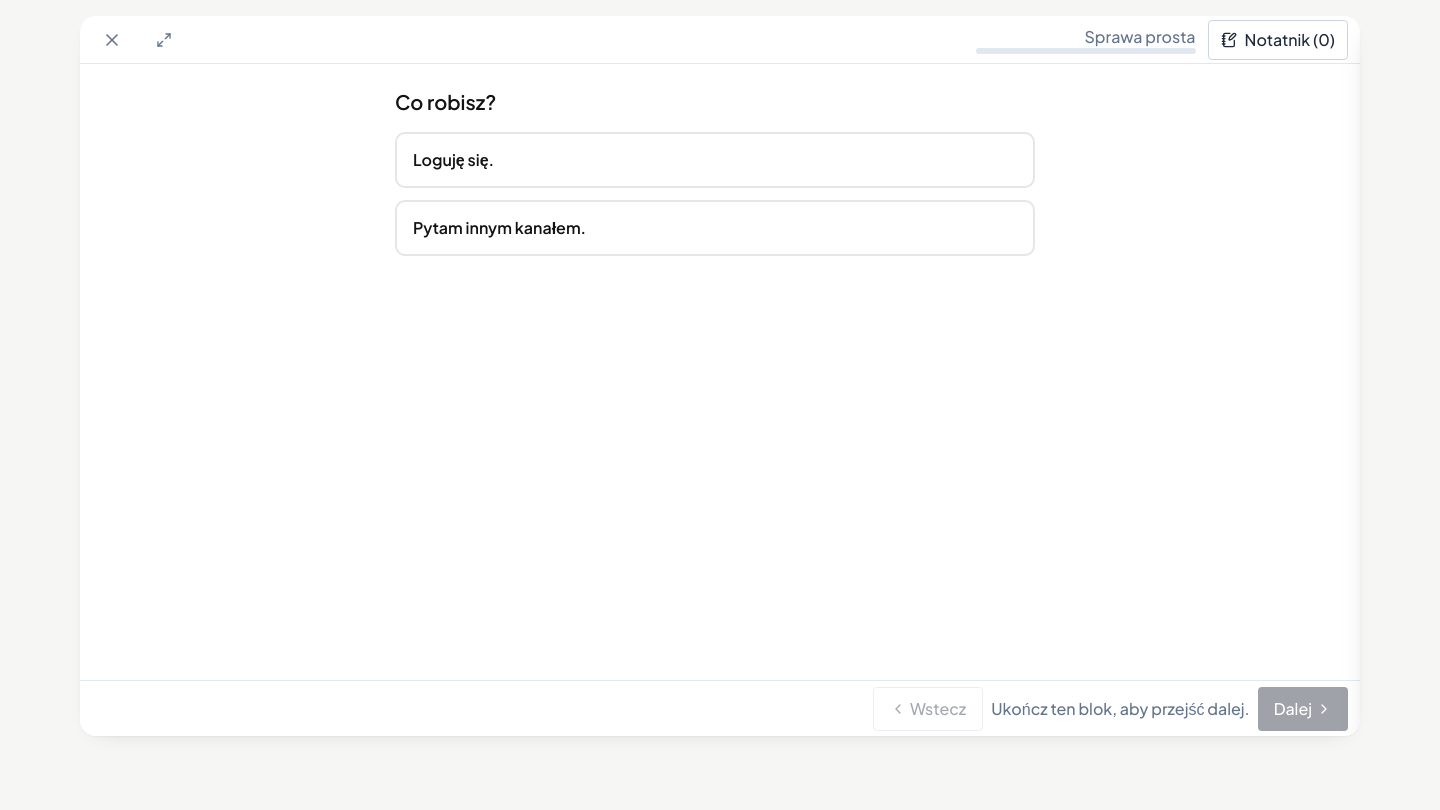
CoursePlayer: tryb prosty › klasa .simple-mode; wybór przez /check; po zapisie od razu następny blok (bez „Poprawna/niepoprawna”)
Step 1. Click the button "Pytam innym kanałem." → (500, 228), box [395,200,1035,256]
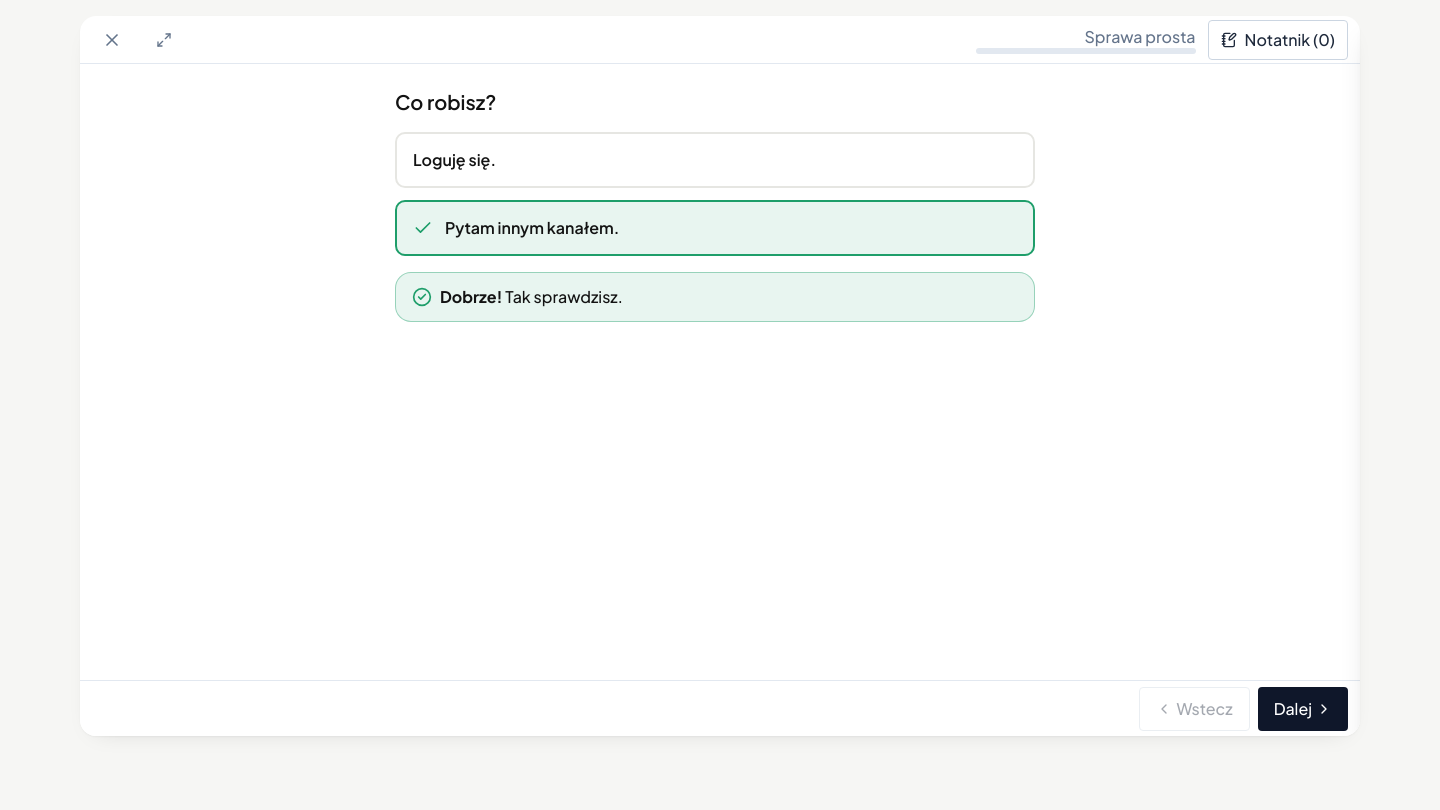
Result: the message with test id "simple-feedback" reads "Dobrze! Tak sprawdzisz." at [395,272,1035,328]
Result: the button "Dalej" is enabled
Step 2. Click the button "Dalej" → (1303, 708), box [1258,686,1348,730]
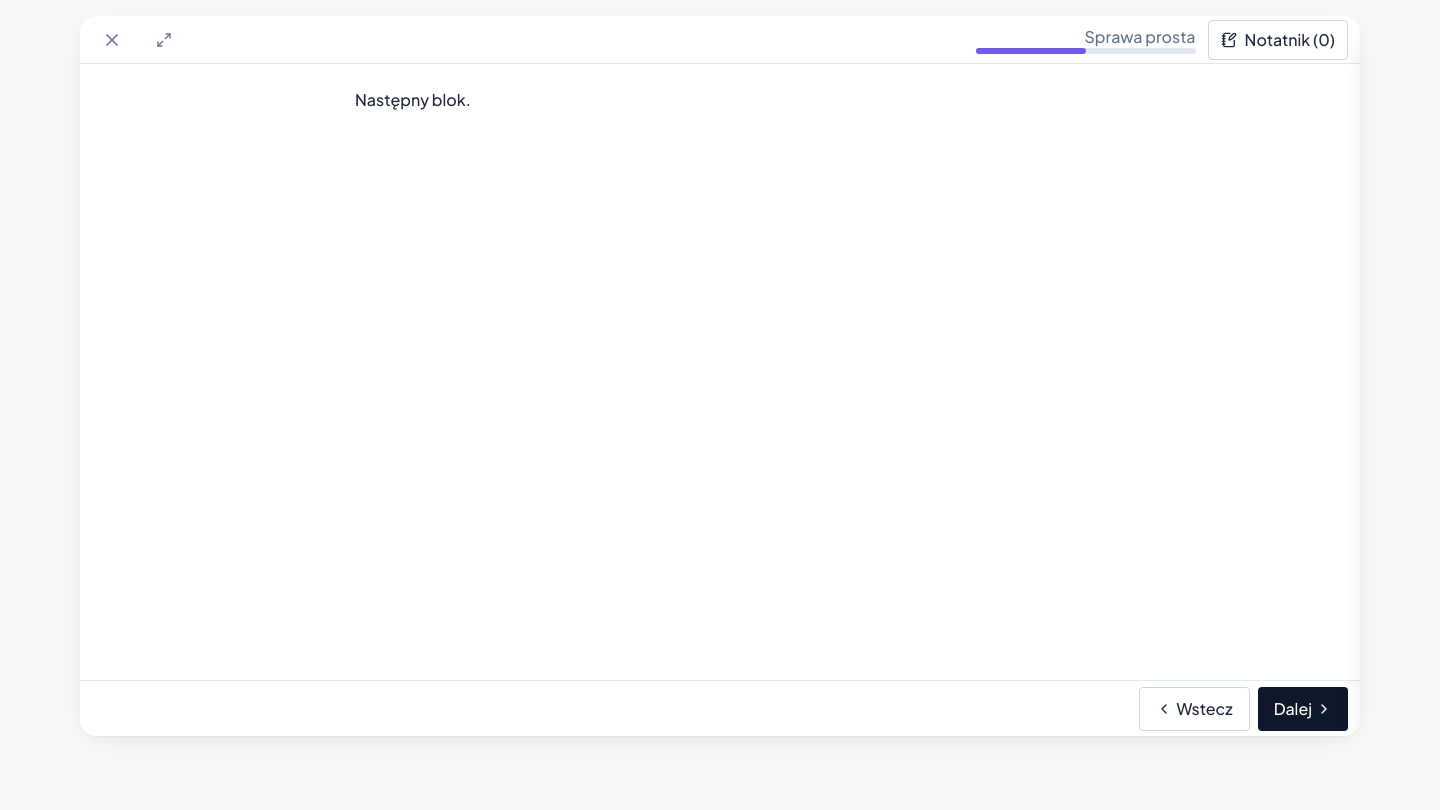
Result: the text "Następny blok." is shown at [355,89,471,110]
